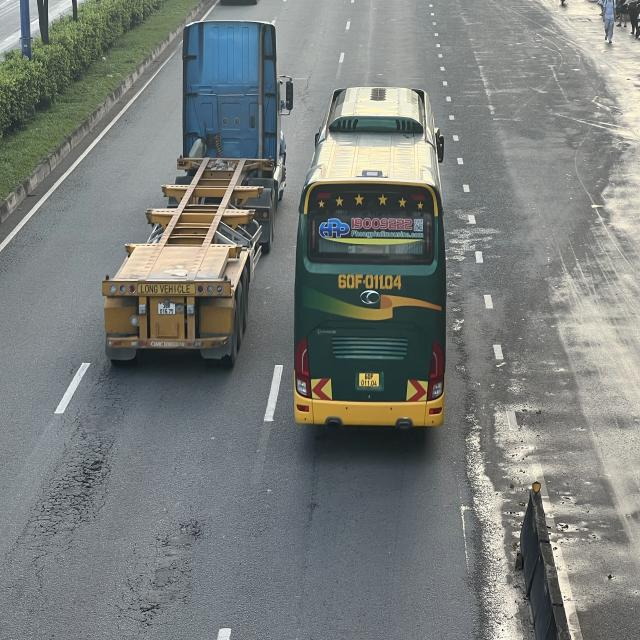coach: (293, 83, 446, 429)
container: (104, 18, 294, 364)
